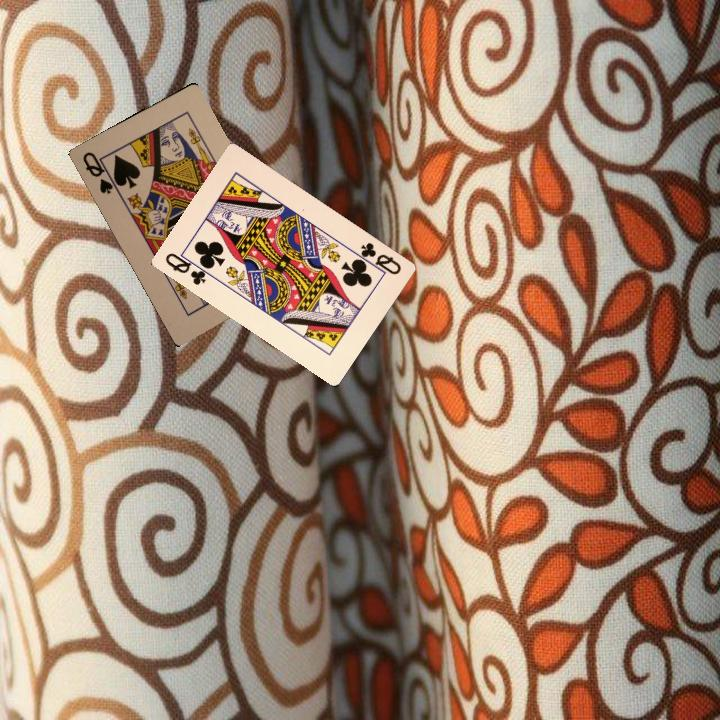Qc: (161, 249, 215, 288), (352, 238, 404, 278)
Qs: (79, 148, 121, 197)
